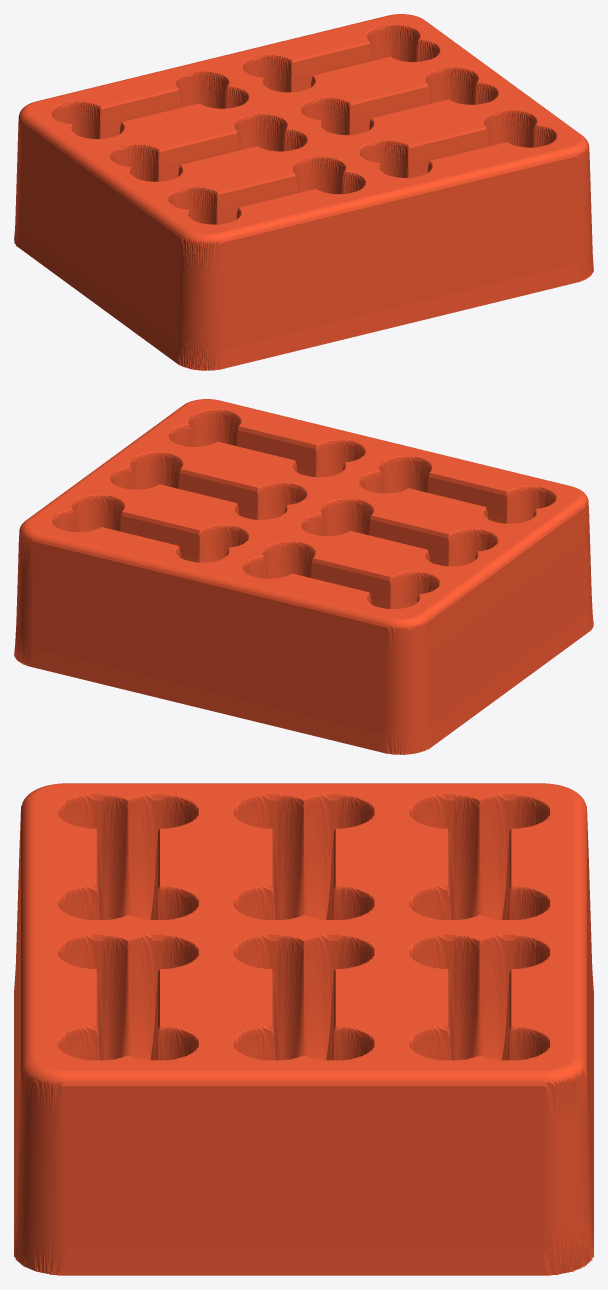
File: mold.glb
3 views of the same model, one above another, from view 1: azimuth 30°, elevation 25°; view 2: azimuth 150°, elevation 25°; view 3: azimuth 270°, elevation 25° (orthographic). The views are drawn at different scales.
Visible parts, largest first — view 1: geometry_0; view 2: geometry_0; view 3: geometry_0.
Part boxes in pixels (x1,y1,x2,y2): geometry_0: (14,14,593,370); geometry_0: (14,399,593,754); geometry_0: (14,783,593,1275).
Size of the model in its own units: 0.1246 by 0.0377 by 0.1008.
